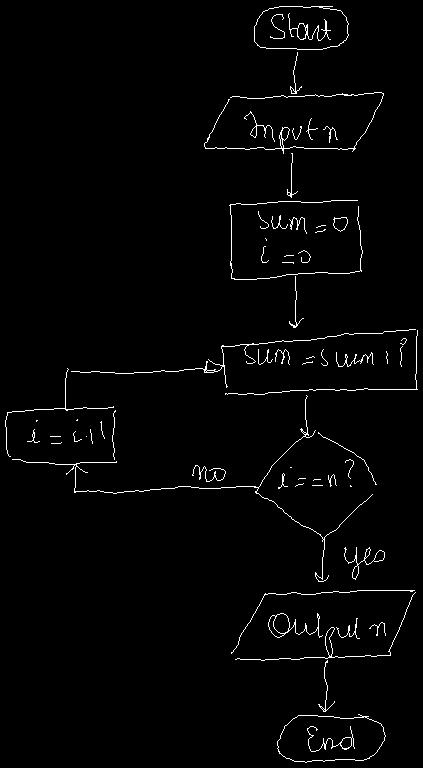arrow: (65, 359, 224, 410), (66, 464, 258, 493), (318, 660, 334, 711), (289, 276, 303, 327), (300, 395, 315, 437), (315, 538, 328, 581), (290, 52, 301, 93), (287, 153, 297, 197)
data: (231, 590, 415, 660), (204, 92, 383, 151)
decision: (255, 432, 376, 541)
process: (221, 329, 417, 394), (229, 200, 362, 279), (5, 406, 116, 464)
terminator: (277, 714, 385, 762), (254, 6, 348, 49)
text: (268, 613, 385, 657), (258, 211, 347, 263), (244, 338, 406, 366), (244, 111, 337, 153), (278, 459, 353, 488), (27, 419, 104, 443), (270, 13, 330, 40), (344, 547, 384, 579), (307, 726, 354, 751), (192, 465, 225, 481)
